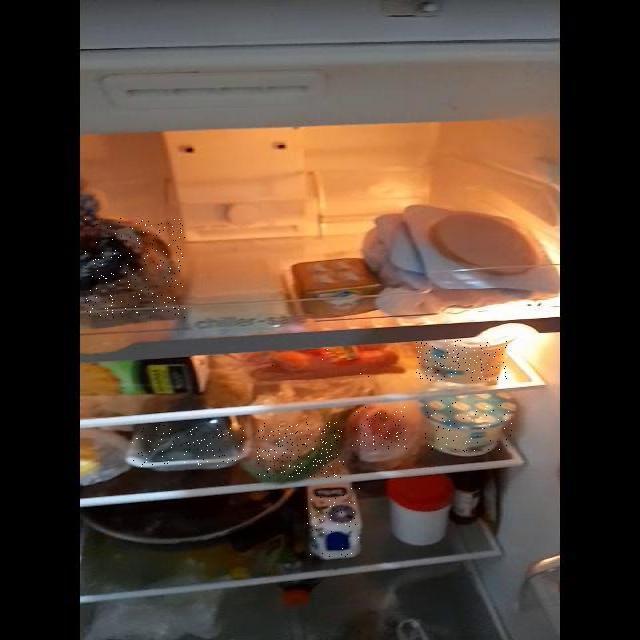Brocoli: (132, 423, 244, 467)
Yogur: (426, 400, 514, 453), (416, 340, 507, 381)
Zanahoria: (257, 348, 400, 380)
bread: (83, 217, 185, 318)
green chilies: (257, 422, 344, 478)
milk: (307, 486, 363, 557)
tomato paste: (352, 407, 407, 450)
